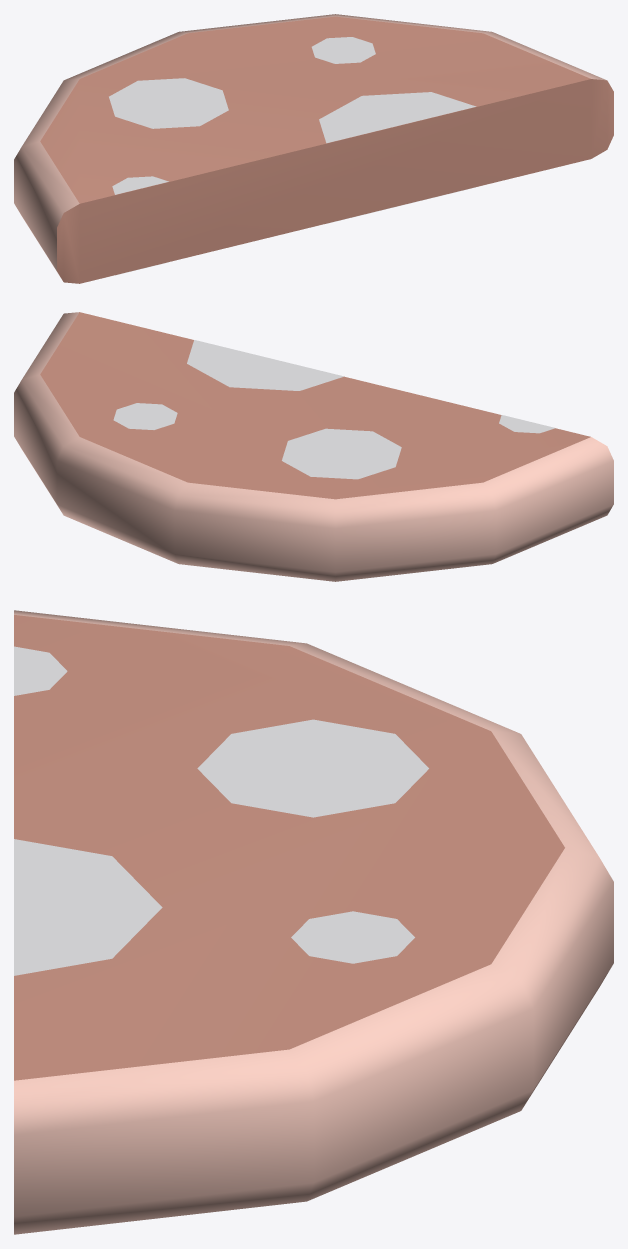
The model's file is Sausage_half.fbx.
3 views of the same model, one above another, from view 1: azimuth 30°, elevation 25°; view 2: azimuth 150°, elevation 25°; view 3: azimuth 270°, elevation 25° (orthographic). The views are drawn at different scales.
Visible parts, largest first — view 1: Sausage_half; view 2: Sausage_half; view 3: Sausage_half.
Boxes of the visible parts, x1,y1,x2,y2 form: Sausage_half: (14,14,613,283); Sausage_half: (14,312,613,581); Sausage_half: (14,610,613,1234).
Size of the model in its own units: 66.24 by 33.12 by 9.16.
